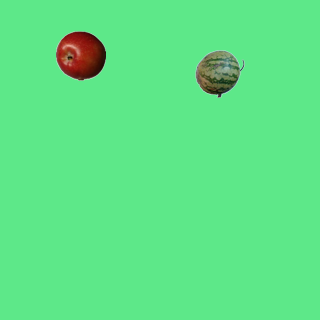Apple Braeburn: (55, 30, 105, 80)
Watermelon: (194, 48, 244, 98)
